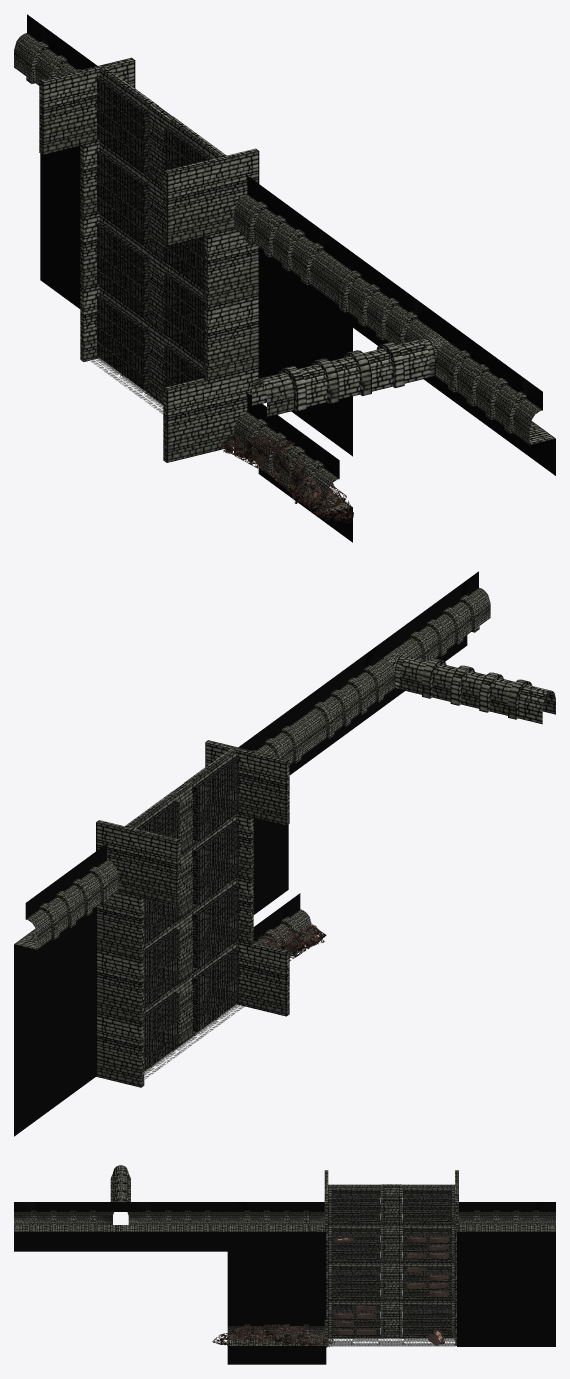
The model's file is Graves.fbx.
3 views of the same model, one above another, from view 1: azimuth 30°, elevation 25°; view 2: azimuth 150°, elevation 25°; view 3: azimuth 270°, elevation 25° (orthographic). The views are drawn at different scales.
Parts seen in each view (by area): view 1: WallTunnel.002, Tunnel, Wall.005, Tunnel.002, Wall1, Wall.004, Wall.002, Wall.008, Tunnel.001, Wall.003, Wall1.001, Wall1.002 (+1 smaller); view 2: Tunnel.002, WallTunnel.002, Wall.004, Wall1.002, Wall.005, Tunnel, Wall.003, Wall.002, Wall1.001, Wall.008, Wall1, Tunnel.001 (+1 smaller); view 3: Tunnel.002, Tunnel, WallTunnel.002, Wall.004, Wall.005, Tunnel.001, Wall1.001, Bones3.001, Cube.042, Cube.053, Cube.046, Wall.002.
Boxes of the visible parts, left/top/right/bottom form: WallTunnel.002: left=252, top=243, right=555, bottom=475; Tunnel: left=234, top=175, right=352, bottom=456; Wall.005: left=97, top=67, right=158, bottom=393; Tunnel.002: left=14, top=14, right=97, bottom=308; Wall1: left=204, top=229, right=259, bottom=380; Wall.004: left=164, top=116, right=226, bottom=387; Wall.002: left=163, top=148, right=259, bottom=245; Wall.008: left=163, top=368, right=259, bottom=462; Tunnel.001: left=234, top=393, right=352, bottom=542; Wall.003: left=39, top=57, right=135, bottom=154; Wall1.001: left=149, top=104, right=174, bottom=404; Wall1.002: left=80, top=141, right=99, bottom=361; Tunnel.002: left=14, top=843, right=118, bottom=1136; WallTunnel.002: left=289, top=571, right=555, bottom=774; Wall.004: left=184, top=748, right=238, bottom=1035; Wall1.002: left=96, top=891, right=144, bottom=1087; Wall.005: left=125, top=792, right=179, bottom=1071; Tunnel: left=238, top=702, right=311, bottom=914; Wall.003: left=96, top=820, right=180, bottom=905; Wall.002: left=205, top=740, right=289, bottom=825; Wall1.001: left=170, top=780, right=192, bottom=1048; Wall.008: left=236, top=941, right=289, bottom=1016; Wall1: left=236, top=813, right=253, bottom=943; Tunnel.001: left=253, top=893, right=311, bottom=954; Tunnel.002: left=457, top=1202, right=555, bottom=1346; Tunnel: left=227, top=1202, right=326, bottom=1319; WallTunnel.002: left=14, top=1165, right=227, bottom=1251; Wall.004: left=328, top=1184, right=384, bottom=1338; Wall.005: left=399, top=1184, right=455, bottom=1338; Tunnel.001: left=227, top=1319, right=326, bottom=1364; Wall1.001: left=381, top=1184, right=401, bottom=1337; Bones3.001: left=212, top=1324, right=335, bottom=1347; Cube.042: left=333, top=1305, right=376, bottom=1334; Cube.053: left=406, top=1237, right=448, bottom=1258; Cube.046: left=406, top=1267, right=448, bottom=1296; Wall.002: left=324, top=1170, right=328, bottom=1231.
Size of the model in its own units: 4236 by 6680 by 19222.
